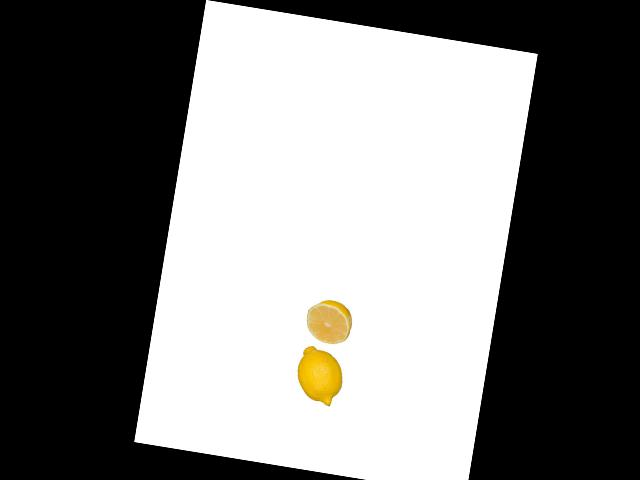lemon: (292, 343, 347, 406)
